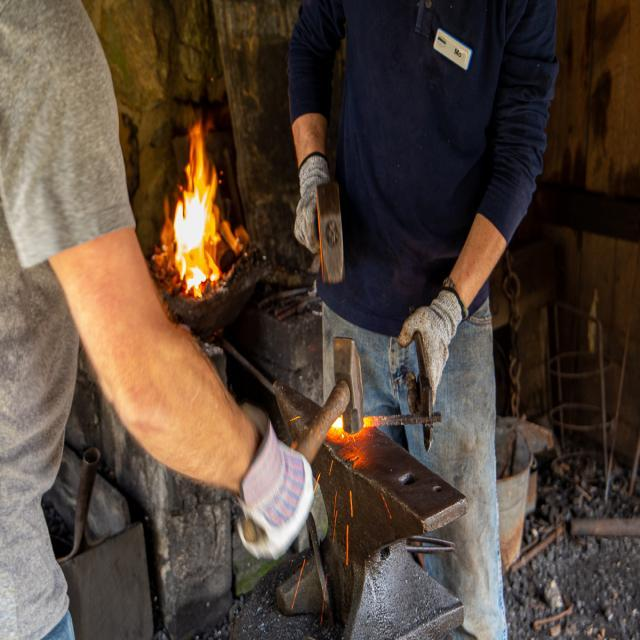hammer: (238, 328, 368, 546), (304, 172, 350, 298)
